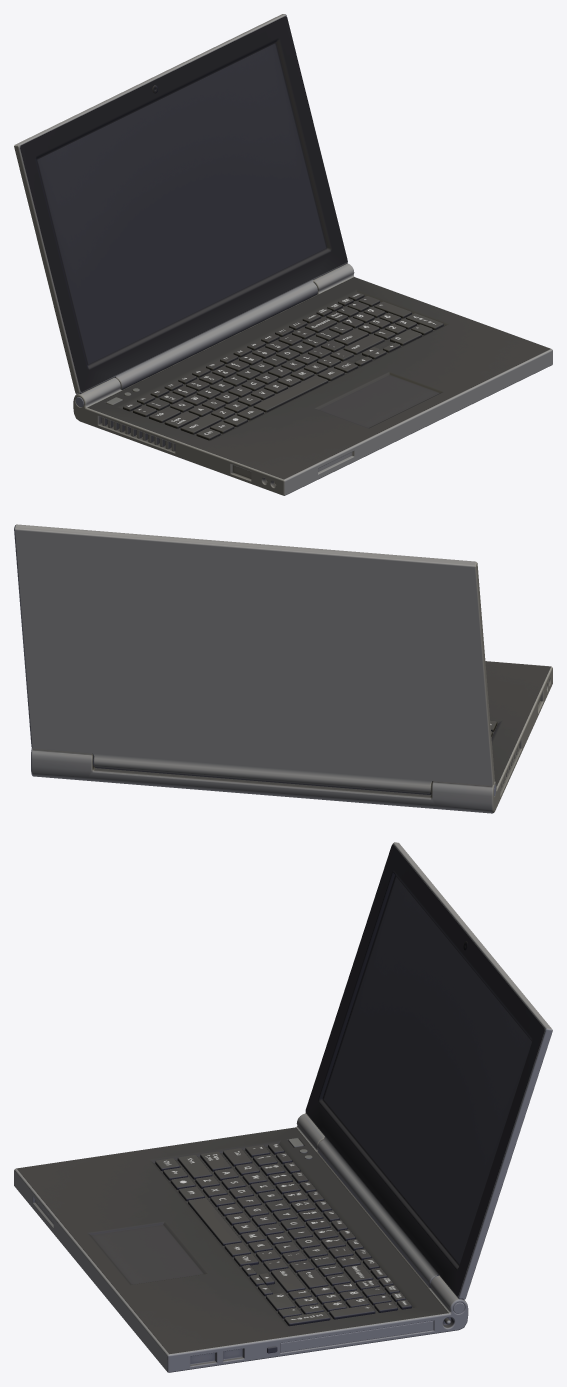
Rendered from laptop (2).glb.
The picture shows the model from 3 angles, top to bottom: view 1: azimuth 30°, elevation 25°; view 2: azimuth 150°, elevation 25°; view 3: azimuth 270°, elevation 25°; orthographic projection. The views are drawn at different scales.
Parts seen in each view (by area): view 1: node_id36_1; view 2: node_id36_1; view 3: node_id36_1.
Part boxes in pixels (x1=…): node_id36_1: x1=14, y1=14, x2=552, y2=495; node_id36_1: x1=14, y1=524, x2=552, y2=813; node_id36_1: x1=14, y1=842, x2=552, y2=1372.
Size of the model in its own units: 0.6269 by 0.3492 by 0.5866.
1 material, 1 textured.
